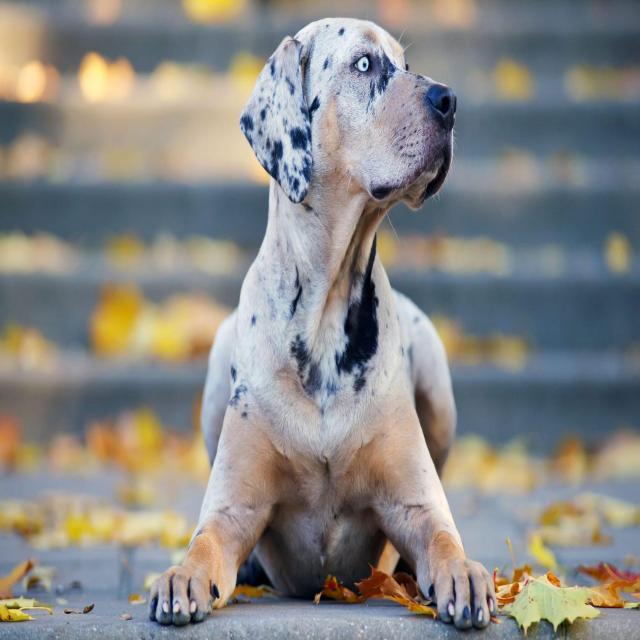Dog: (234, 10, 462, 222)
